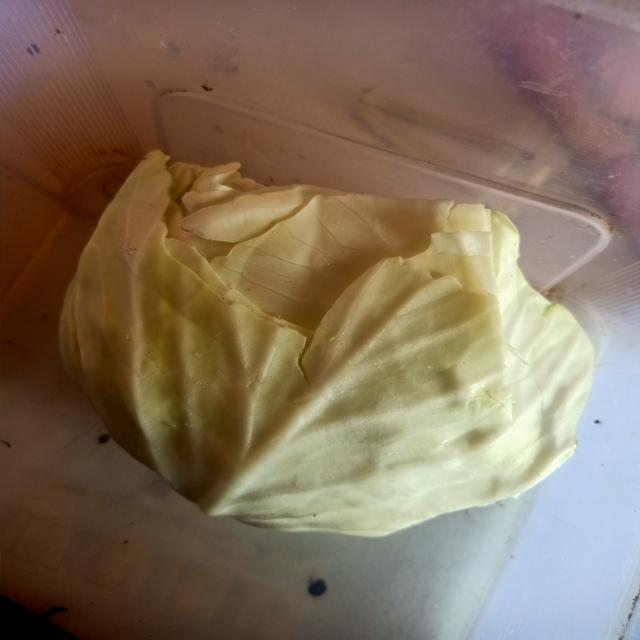Cabbage: (28, 140, 638, 569)
